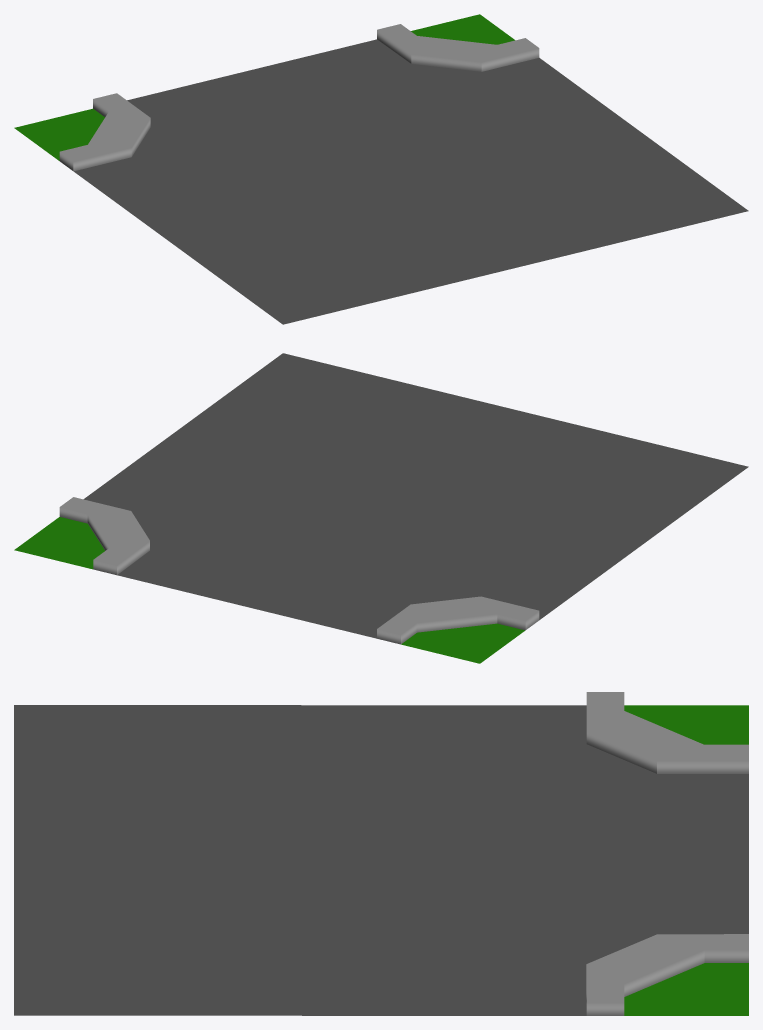
Rendered from ground_pathSideOpen.fbx.
3 renders of one model, top to bottom at view 1: azimuth 30°, elevation 25°; view 2: azimuth 150°, elevation 25°; view 3: azimuth 270°, elevation 25°, orthographic. The views are drawn at different scales.
Parts seen in each view (by area): view 1: ground_pathSideOpen; view 2: ground_pathSideOpen; view 3: ground_pathSideOpen.
Boxes of the visible parts, <box> form: ground_pathSideOpen: <box>14,14,748,324</box>; ground_pathSideOpen: <box>14,353,748,663</box>; ground_pathSideOpen: <box>14,692,748,1015</box>.
Size of the model in its own units: 100 by 1.98 by 100.
